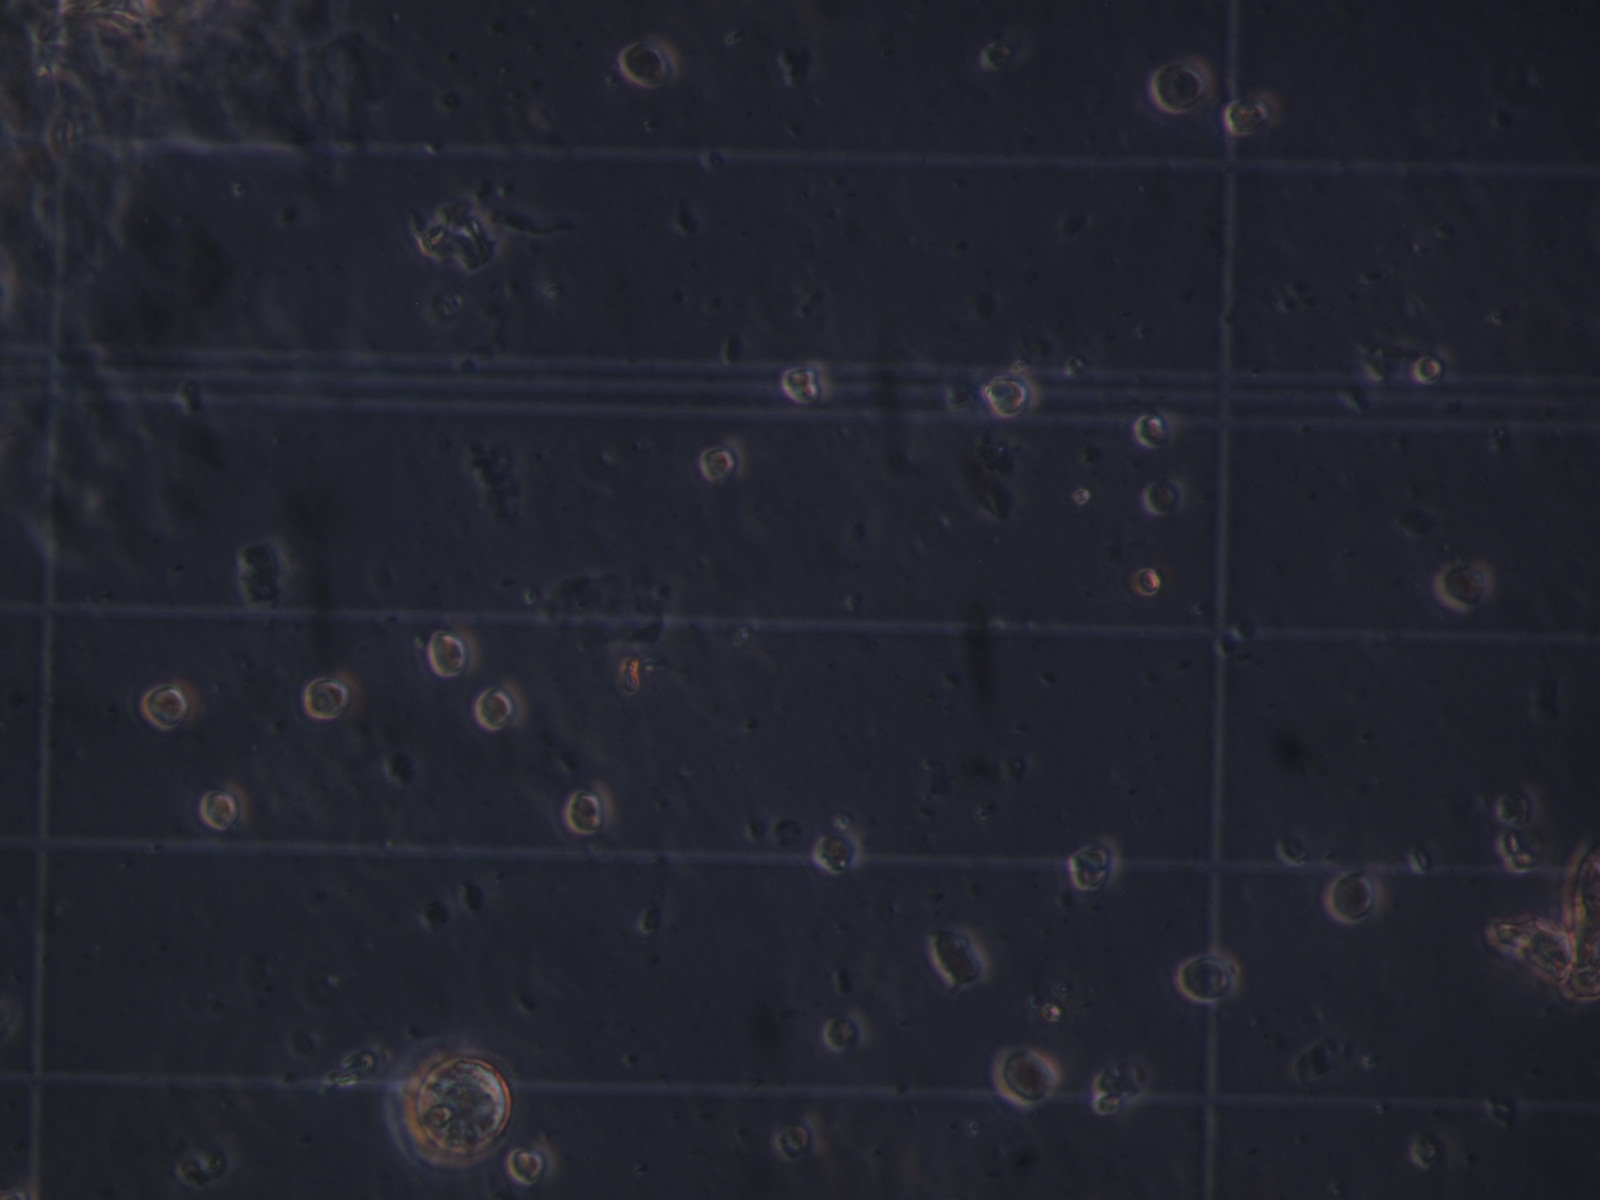hemo: (989, 1046, 1061, 1111), (1148, 53, 1216, 116), (927, 923, 989, 989), (1431, 556, 1495, 613), (1327, 866, 1385, 925), (617, 38, 680, 92), (139, 679, 200, 734), (1066, 834, 1123, 892), (304, 671, 365, 724), (1178, 952, 1237, 1005), (981, 367, 1041, 418), (472, 682, 528, 734), (563, 782, 614, 837), (1225, 88, 1283, 135), (198, 780, 249, 832), (781, 355, 833, 407), (427, 626, 477, 677), (775, 1112, 826, 1161), (506, 1142, 556, 1190), (814, 827, 863, 875), (700, 437, 747, 482), (821, 1008, 868, 1051), (1135, 408, 1179, 449), (1412, 347, 1456, 386), (1144, 476, 1187, 516)
